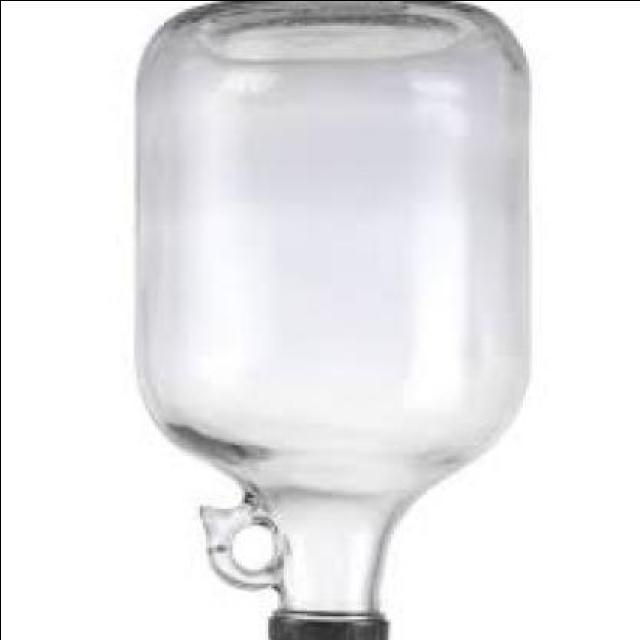kaca: (136, 0, 530, 623)
